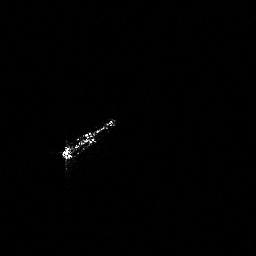ship: (59, 115, 120, 167)
